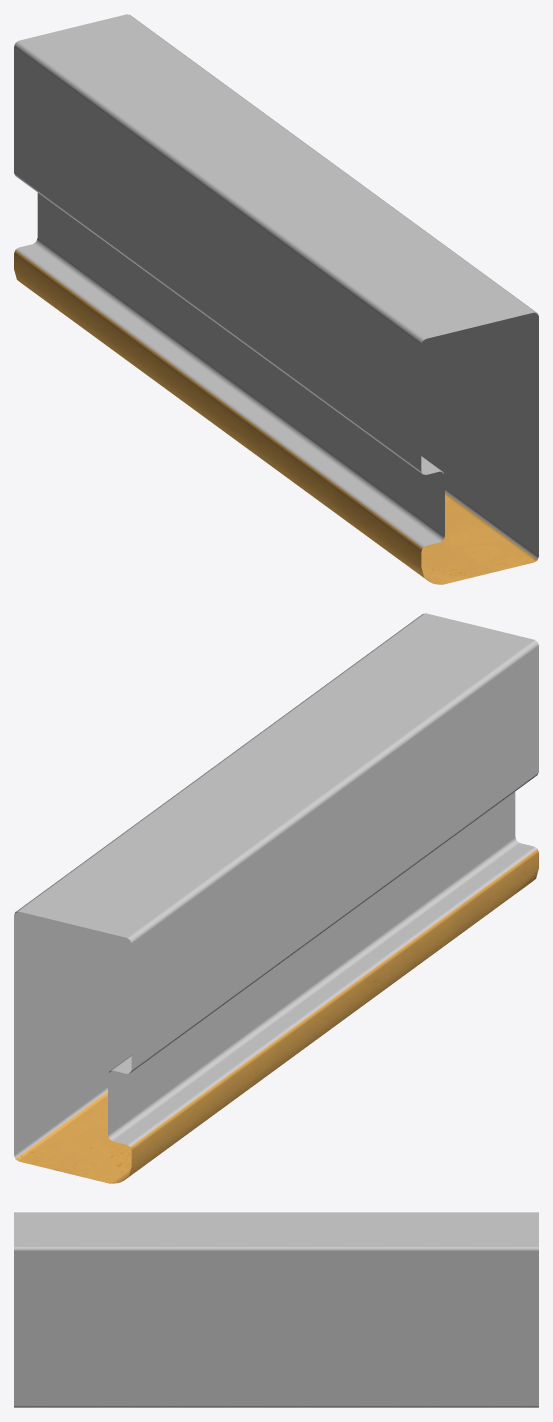
File: SM_Beam_04_Middle.fbx
3 renders of one model, top to bottom at view 1: azimuth 30°, elevation 25°; view 2: azimuth 150°, elevation 25°; view 3: azimuth 270°, elevation 25°, orthographic. The views are drawn at different scales.
Visible parts, largest first — view 1: SM_Beam_04_Middle_LOD0; view 2: SM_Beam_04_Middle_LOD0; view 3: SM_Beam_04_Middle_LOD0.
Boxes of the visible parts, bbox=[...] form: SM_Beam_04_Middle_LOD0: bbox=[14, 14, 538, 584]; SM_Beam_04_Middle_LOD0: bbox=[14, 613, 538, 1183]; SM_Beam_04_Middle_LOD0: bbox=[14, 1212, 538, 1407].
Bounding box in the file's own units: 50 × 300 × 102.
